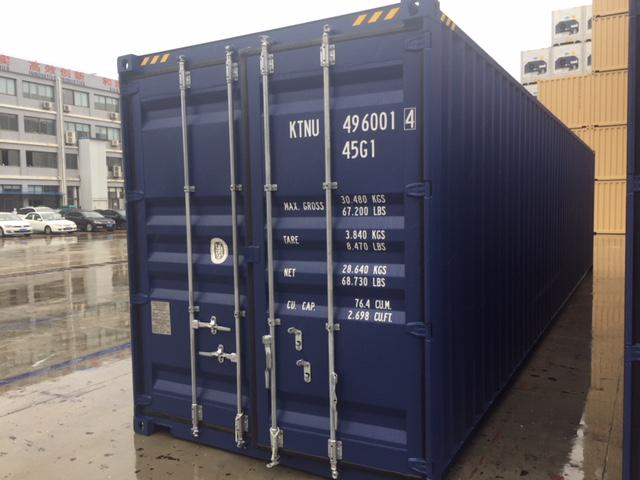ContainerNum: (287, 105, 418, 162)
